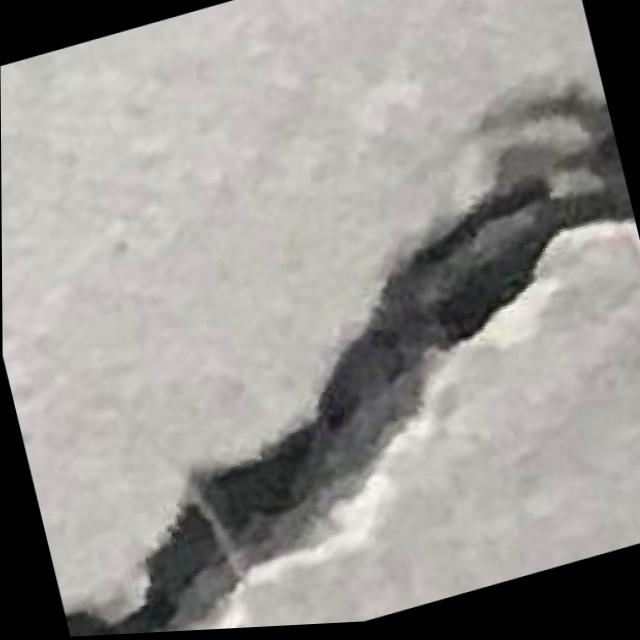Crack: (1, 78, 640, 640)
